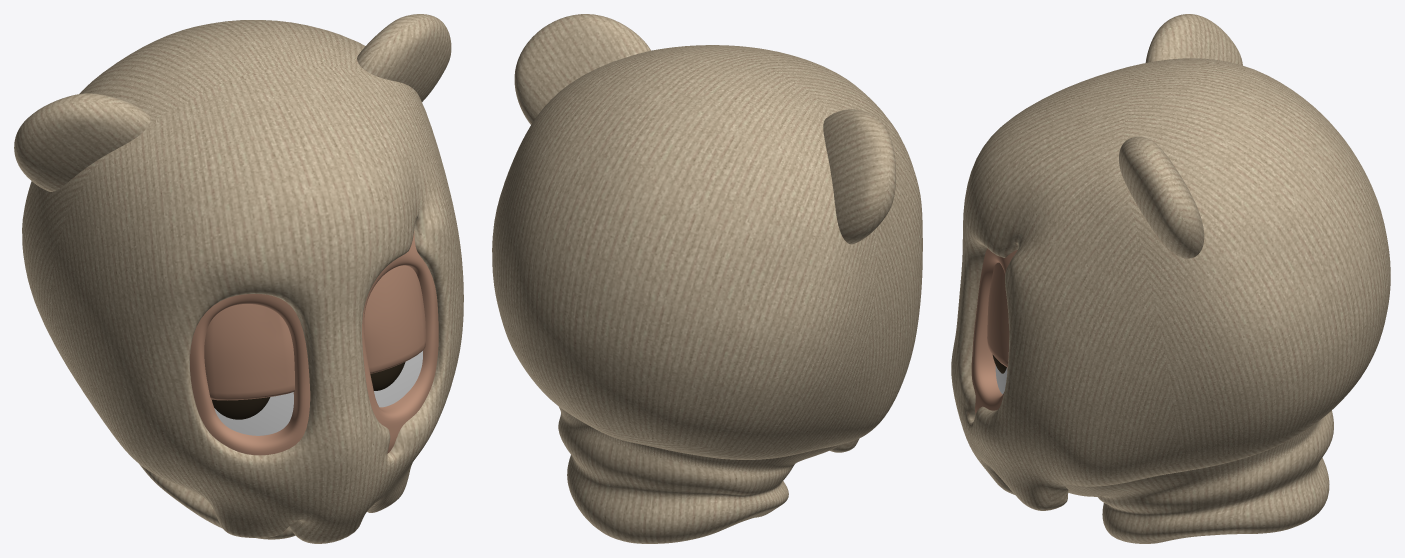
3 views of the same model, side by side, from view 1: azimuth 30°, elevation 25°; view 2: azimuth 150°, elevation 25°; view 3: azimuth 270°, elevation 25° (orthographic). The views are drawn at different scales.
Parts seen in each view (by area): view 1: Skull_Balaclava1.003, Face.007, Eyelid_right.007, Eyelid_left.007, Sclera.009, Pupil_right.001; view 2: Skull_Balaclava1.003; view 3: Skull_Balaclava1.003, Face.007, Eyelid_left.007.
Part boxes in pixels (<box>): Skull_Balaclava1.003: <box>14,14,463,543</box>; Face.007: <box>190,231,438,455</box>; Eyelid_right.007: <box>204,304,294,400</box>; Eyelid_left.007: <box>364,265,425,373</box>; Sclera.009: <box>214,351,422,435</box>; Pupil_right.001: <box>211,397,270,419</box>; Skull_Balaclava1.003: <box>492,14,922,543</box>; Skull_Balaclava1.003: <box>951,14,1390,543</box>; Face.007: <box>971,248,1017,414</box>; Eyelid_left.007: <box>987,262,1009,367</box>.
Bounding box in the file's own units: 0.9195 × 1.02 × 0.9022.
Materials: 3 (1 with a texture image).
